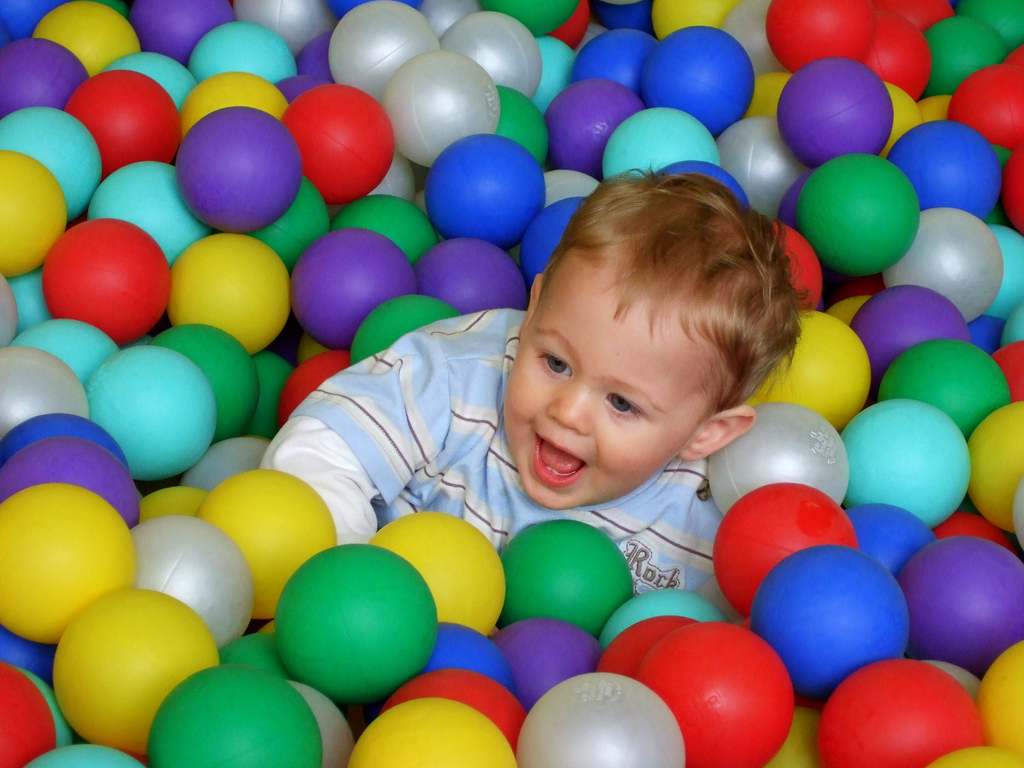Person: (260, 171, 813, 620)
